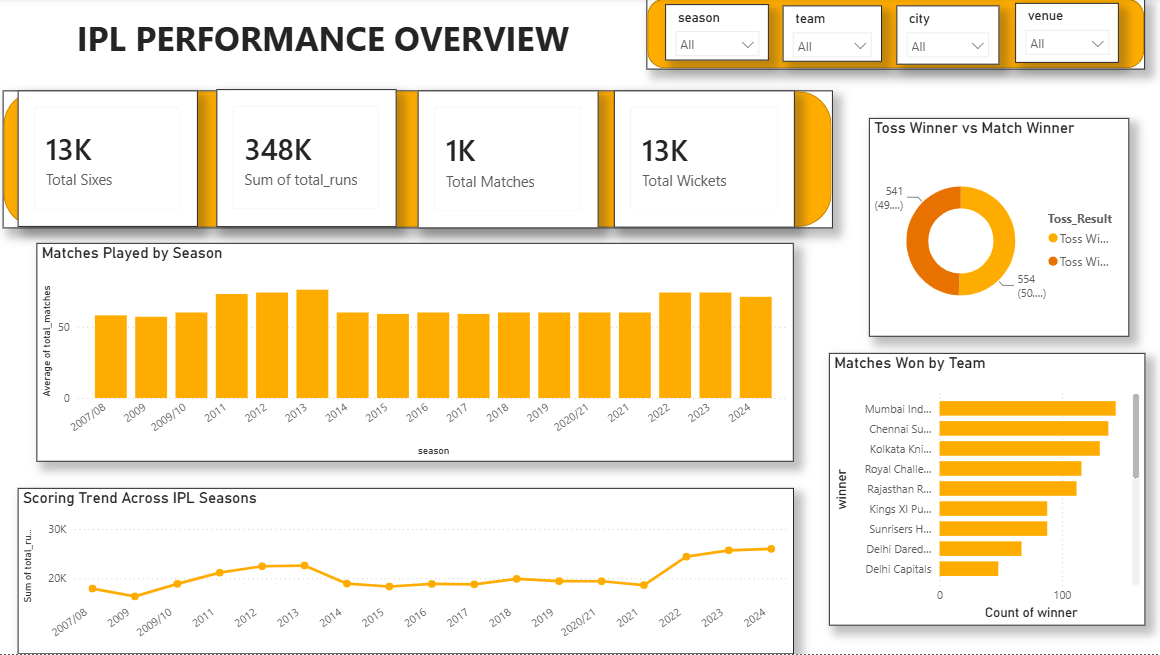

The page's visual inventory and layout, read from the dashboard file:
{"tool":"powerbi","page":{"name":"EXECUTIVE OVERVIEW","canvas":[1280,720],"ordinal":0},"visuals":[{"type":"shape","box":[9.6,101.5,911.2,150.9],"z":0},{"type":"shape","box":[716.3,0,547.5,78.2],"z":1000},{"type":"textbox","box":[9.6,13.7,693,64.5],"z":2000},{"type":"cardVisual","fields":{"Data":["Sum(matches_cleaned.total_runs)"]},"box":[244.3,100.2,197.6,150.9],"z":3000},{"type":"cardVisual","fields":{"Data":["matches_cleaned.Total Matches"]},"box":[465.2,101.5,198,151],"z":4000},{"type":"cardVisual","fields":{"Data":["matches_cleaned.Total Wickets"]},"box":[680.6,101.5,198,150],"z":5000},{"type":"cardVisual","fields":{"Data":["matches_cleaned.Total Sixes"]},"box":[26.1,101.5,197.6,149.6],"z":6000},{"type":"clusteredBarChart","title":"Matches Won by Team","fields":{"Y":["CountNonNull(matches_cleaned.winner)"],"Category":["matches_cleaned.winner"]},"box":[916.6,389.7,347.2,299.1],"z":7000},{"type":"columnChart","title":"Matches Played by Season","fields":{"Category":["season_stats.season"],"Y":["Avg(season_stats.total_matches)"]},"box":[46.7,269,831.6,240.1],"z":8000},{"type":"lineChart","title":"Scoring Trend Across IPL Seasons","fields":{"Y":["Sum(matches_cleaned.total_runs)"],"Category":["matches_cleaned.season"]},"box":[26.1,537.9,852.1,182.5],"z":9000},{"type":"donutChart","title":"Toss Winner vs Match Winner","fields":{"Category":["matches_cleaned.Toss_Result"],"Y":["CountNonNull(matches_cleaned.Toss_Result)"]},"box":[960.6,131.7,285.4,240.1],"z":10000},{"type":"slicer","fields":{"Values":["matches_cleaned.city"]},"box":[990.7,8.2,112.5,64.5],"z":11000},{"type":"slicer","fields":{"Values":["matches_cleaned.venue"]},"box":[1121.1,5.5,113.9,65.9],"z":12000},{"type":"slicer","fields":{"Values":["matches_cleaned.season"]},"box":[736.9,6.9,113.9,61.7],"z":13000},{"type":"slicer","fields":{"Values":["team_stats.team"]},"box":[865.9,8.2,108.4,61.7],"z":14000}]}

Visuals, with their boxes in screenshot pixels (x1, y1, x2, y2), scaled from the page's 1280x720 canvas onto the 1160x655 screenshot:
shape: x1=9, y1=92, x2=834, y2=230
shape: x1=649, y1=0, x2=1145, y2=71
textbox: x1=9, y1=12, x2=637, y2=71
cardVisual - Sum(matches_cleaned.total_runs): x1=221, y1=91, x2=400, y2=228
cardVisual - matches_cleaned.Total Matches: x1=422, y1=92, x2=601, y2=230
cardVisual - matches_cleaned.Total Wickets: x1=617, y1=92, x2=796, y2=229
cardVisual - matches_cleaned.Total Sixes: x1=24, y1=92, x2=203, y2=228
"Matches Won by Team" clusteredBarChart: x1=831, y1=355, x2=1145, y2=627
"Matches Played by Season" columnChart: x1=42, y1=245, x2=796, y2=463
"Scoring Trend Across IPL Seasons" lineChart: x1=24, y1=489, x2=796, y2=654
"Toss Winner vs Match Winner" donutChart: x1=871, y1=120, x2=1129, y2=338
slicer - matches_cleaned.city: x1=898, y1=7, x2=1000, y2=66
slicer - matches_cleaned.venue: x1=1016, y1=5, x2=1119, y2=65
slicer - matches_cleaned.season: x1=668, y1=6, x2=771, y2=62
slicer - team_stats.team: x1=785, y1=7, x2=883, y2=64
